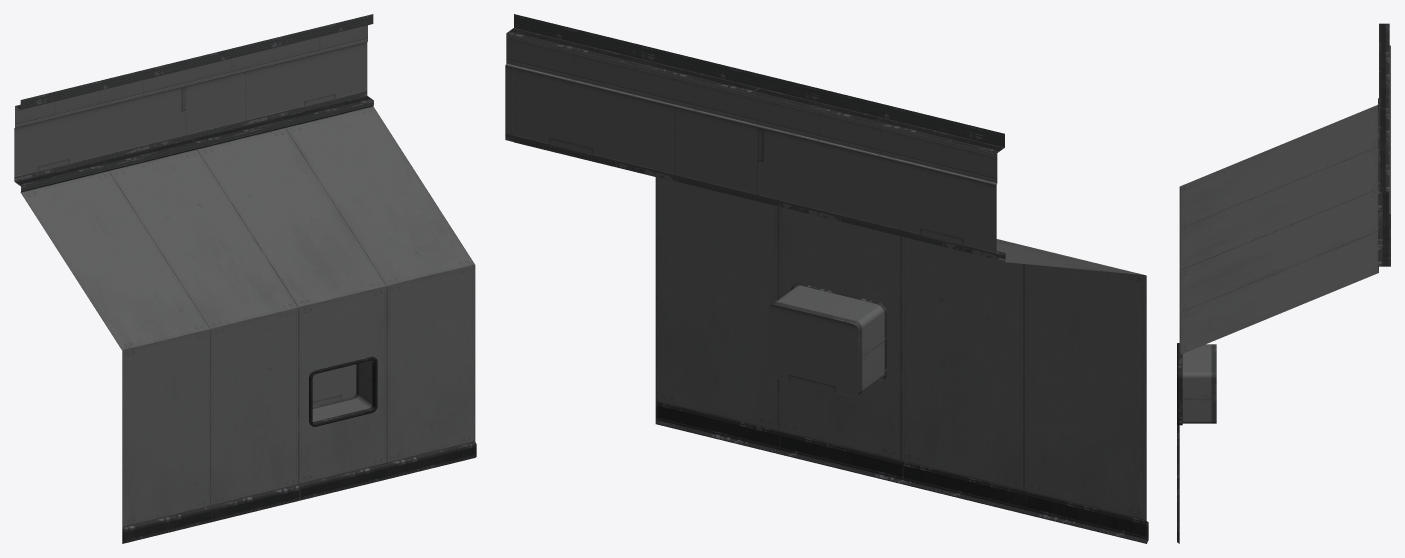
File: Subway_wall_3C.fbx
The picture shows the model from 3 angles, left to right: view 1: azimuth 30°, elevation 25°; view 2: azimuth 150°, elevation 25°; view 3: azimuth 270°, elevation 25°; orthographic projection. The views are drawn at different scales.
Visible parts, largest first — view 1: polySurface714; view 2: polySurface714; view 3: polySurface714.
Boxes of the visible parts, x1,y1,x2,y2 form: polySurface714: (14,14,476,543); polySurface714: (505,14,1148,543); polySurface714: (1177,23,1390,543).
Bounding box in the file's own units: 400 × 400 × 214.
